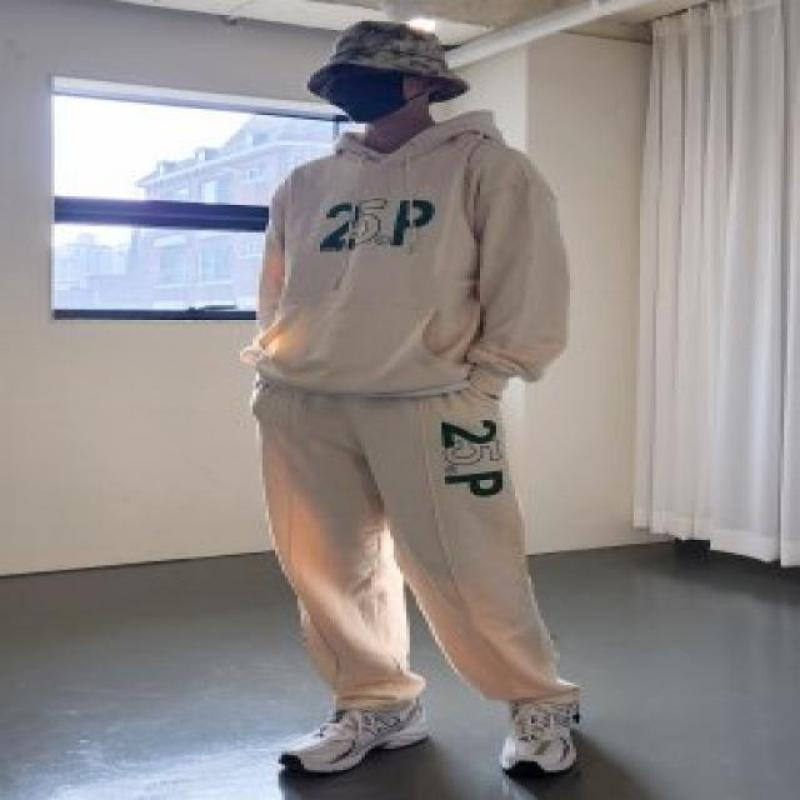sweater: (238, 107, 572, 399)
trousers: (250, 377, 582, 712)
